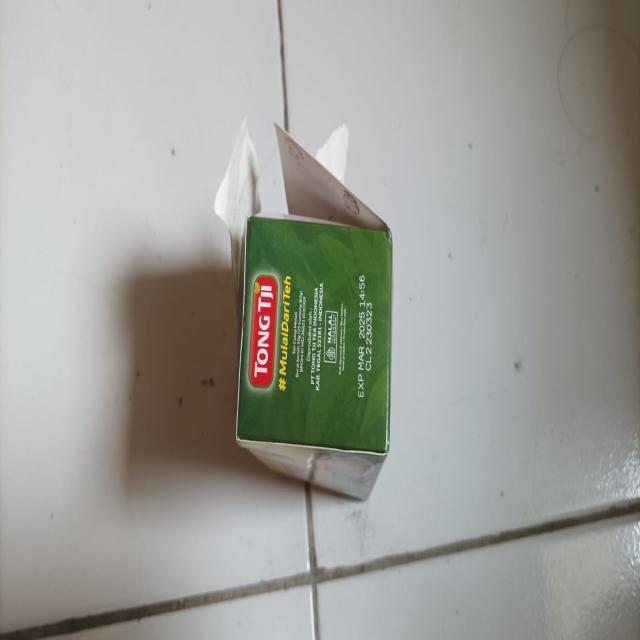Organik: (214, 122, 395, 505)
